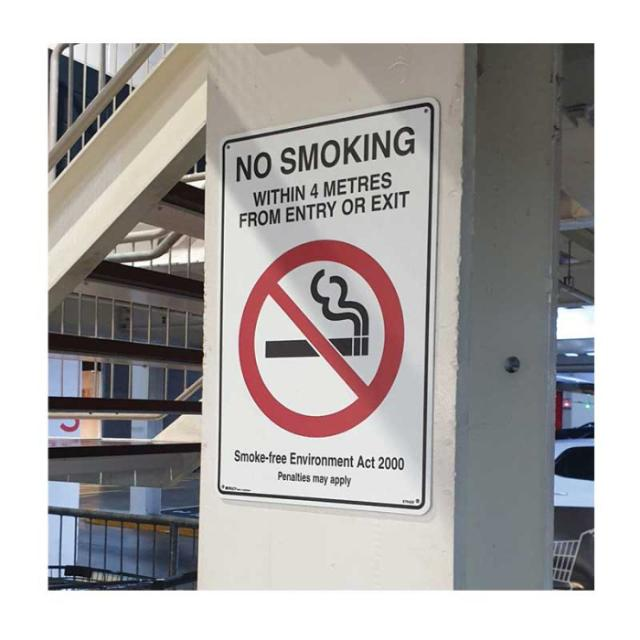cam hut thuoc: (215, 98, 439, 515)
